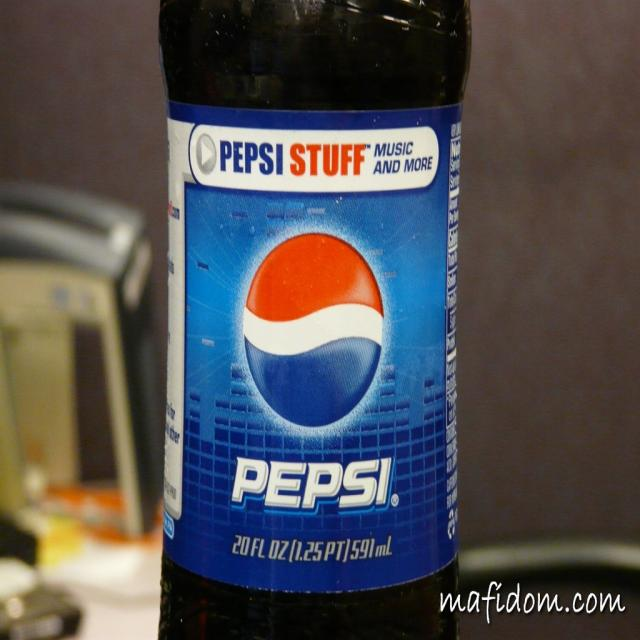pepsi: (240, 228, 390, 437)
